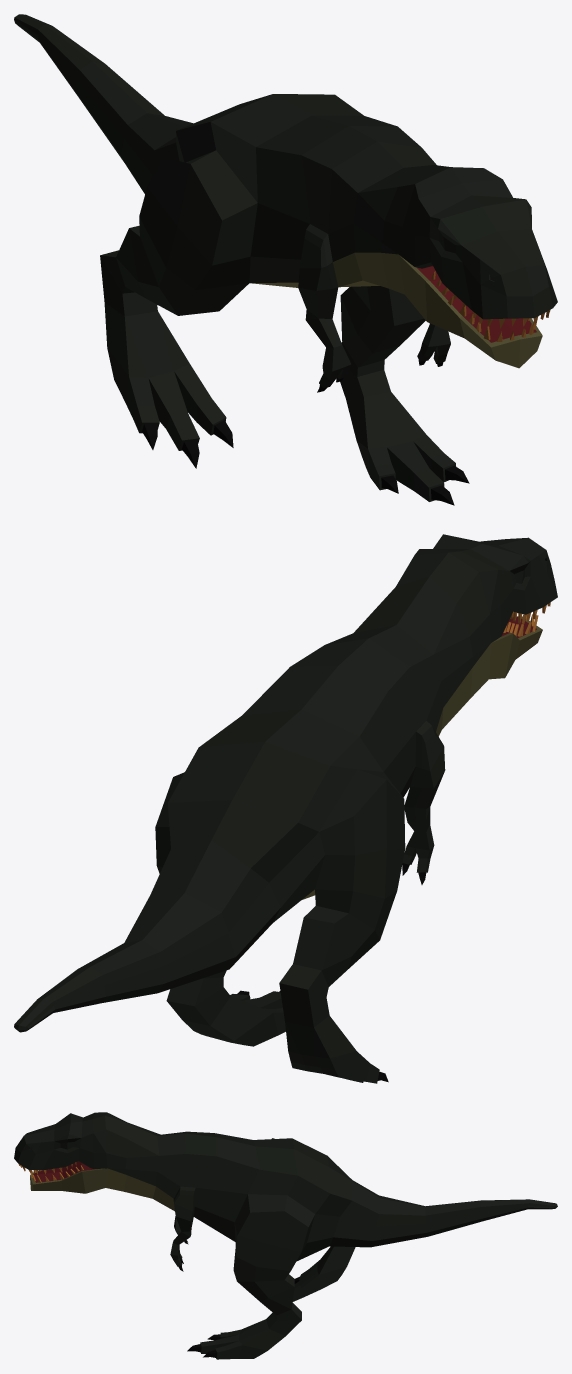
Rendered from Trex_000005.obj.
The picture shows the model from 3 angles, top to bottom: view 1: azimuth 30°, elevation 25°; view 2: azimuth 150°, elevation 25°; view 3: azimuth 270°, elevation 25°; orthographic projection. The views are drawn at different scales.
Visible parts, largest first — view 1: Trex_Cylinder; view 2: Trex_Cylinder; view 3: Trex_Cylinder.
Part boxes in pixels (x1,y1,x2,y2): Trex_Cylinder: (14,14,557,505); Trex_Cylinder: (14,534,557,1083); Trex_Cylinder: (14,1112,557,1359).
Bounding box in the file's own units: 8.02 × 13.69 × 31.14.
